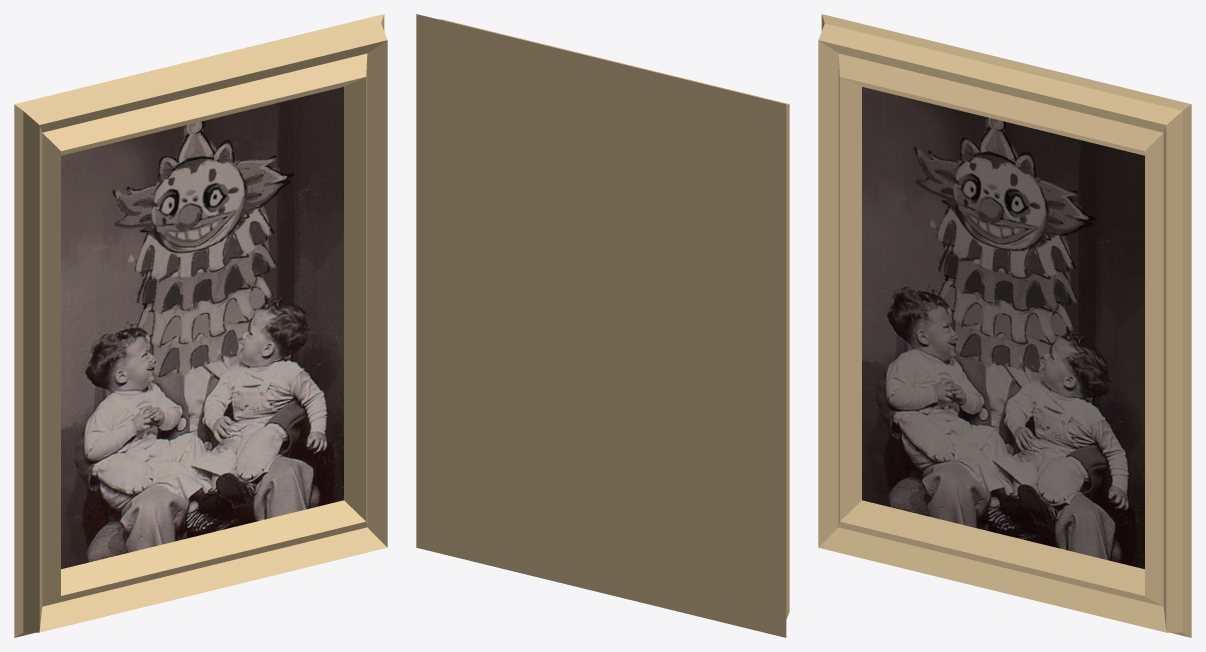
File: frame.fbx
3 views of the same model, side by side, from view 1: azimuth 30°, elevation 25°; view 2: azimuth 150°, elevation 25°; view 3: azimuth 330°, elevation 25° (orthographic).
Parts seen in each view (by area): view 1: pic, frame; view 2: frame; view 3: pic, frame.
Boxes of the visible parts, box(x1,y1,x2,y2) form: pic: box(61, 87, 343, 569); frame: box(14, 14, 387, 637); frame: box(416, 14, 789, 637); pic: box(862, 87, 1144, 569); frame: box(818, 14, 1191, 637).
Size of the model in its own units: 1.3 by 1.79 by 0.087.
